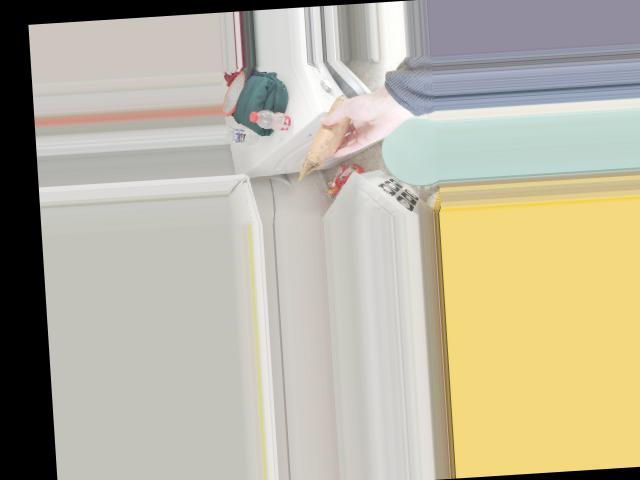sweet_potato: (304, 109, 351, 157)
